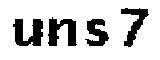7: (115, 4, 151, 49)
n: (46, 15, 80, 50)
s: (81, 17, 109, 49)
u: (9, 16, 44, 50)
